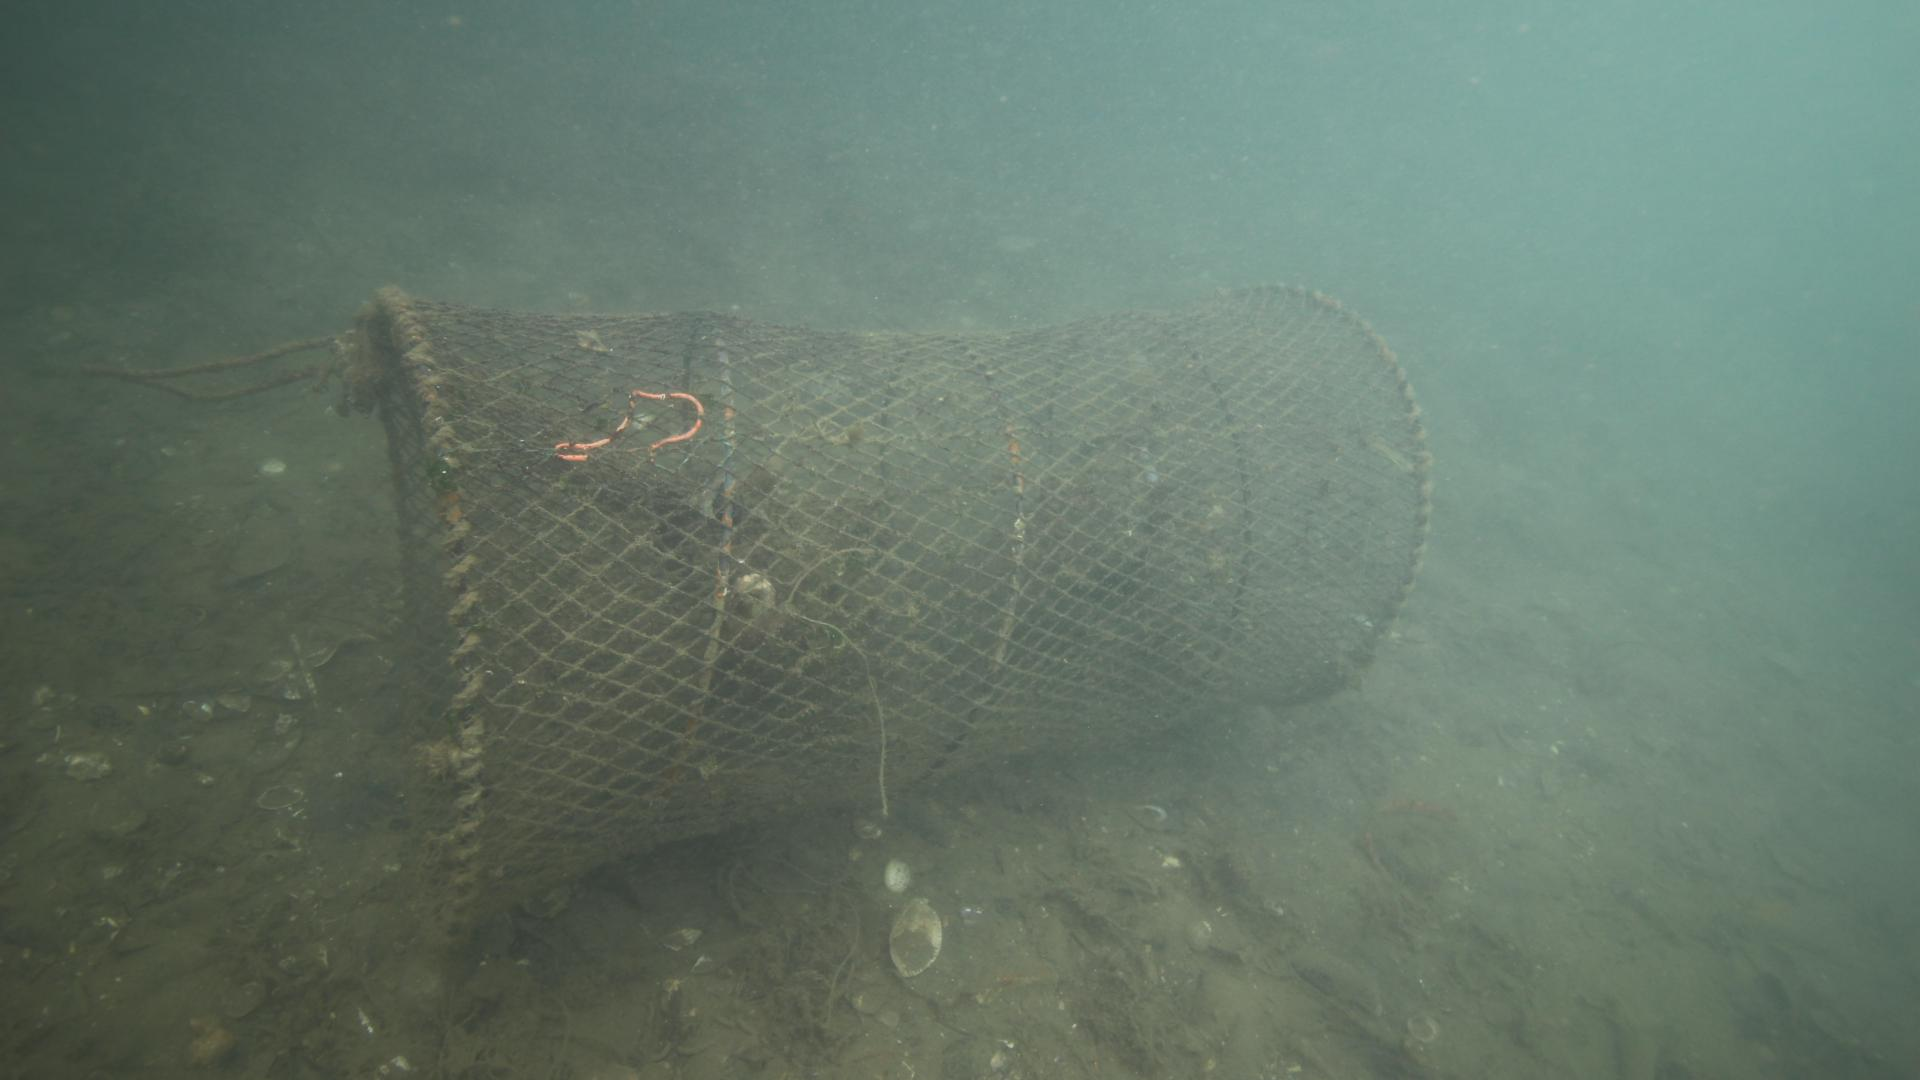bundle of ropes: (74, 335, 385, 413)
spring fish trap: (363, 280, 1437, 945)
